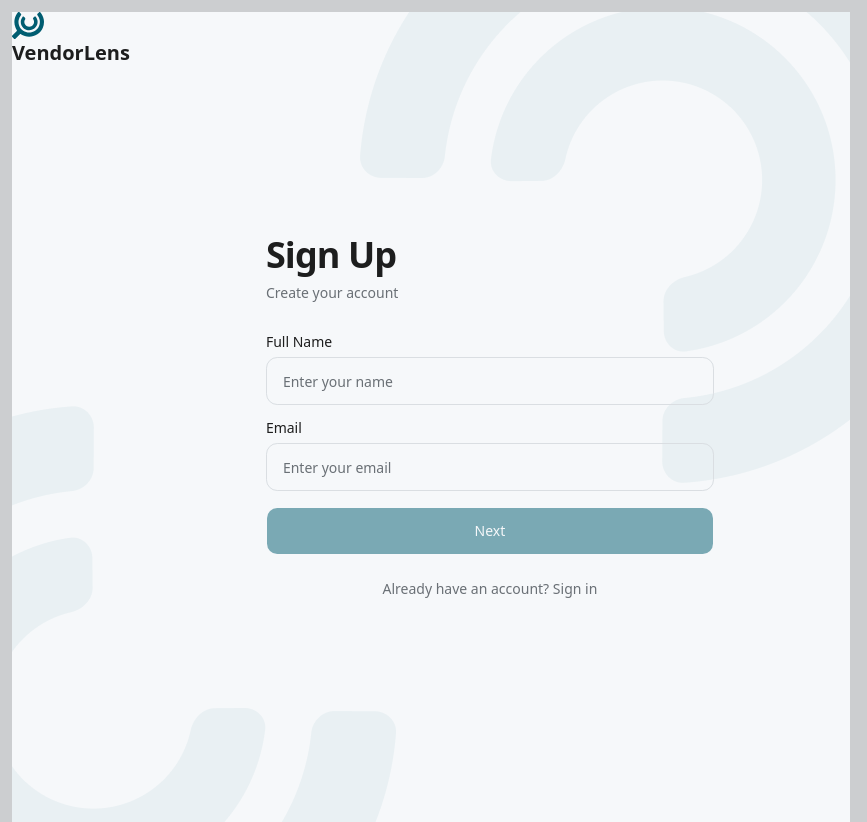
it: RegisterPage › Step 0 - name & email › enables Next once name and email are valid, and advances to the password step
This screenshot has width=867, height=822.
In the field with placeholder "Enter your name": (490,381) [266, 357, 714, 405], type "John Doe"
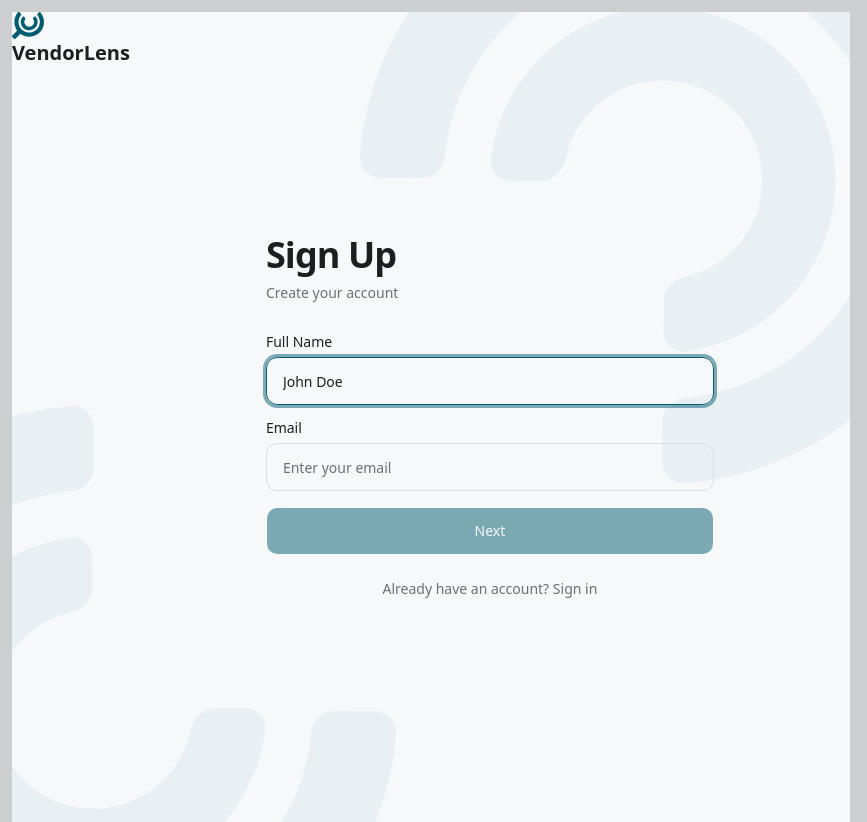
In the field with placeholder "Enter your email": (490,467) [266, 443, 714, 491], type "john@example.com"
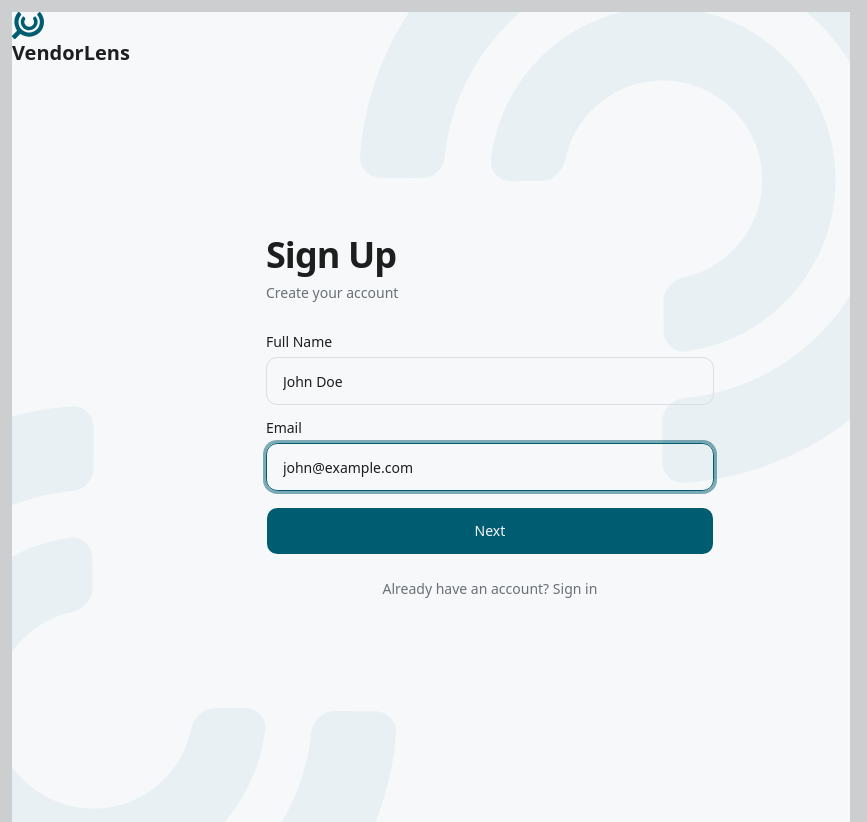
Click the button "Next": (490,531) [266, 507, 714, 555]
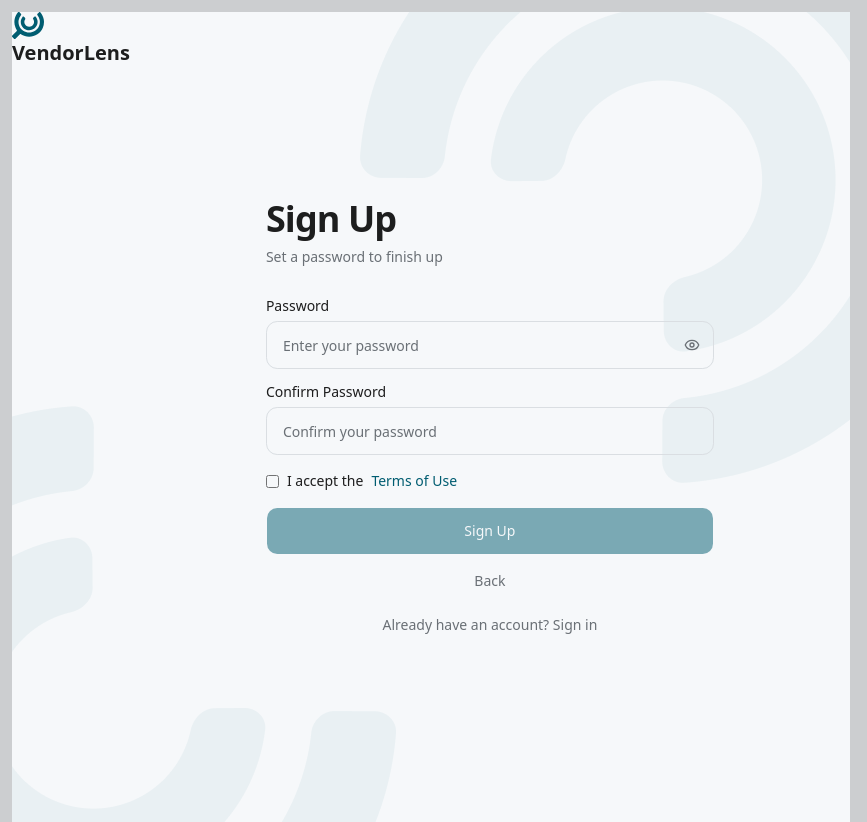
Expected: the password field with placeholder "Enter your password" is shown, [266, 321, 714, 369]
